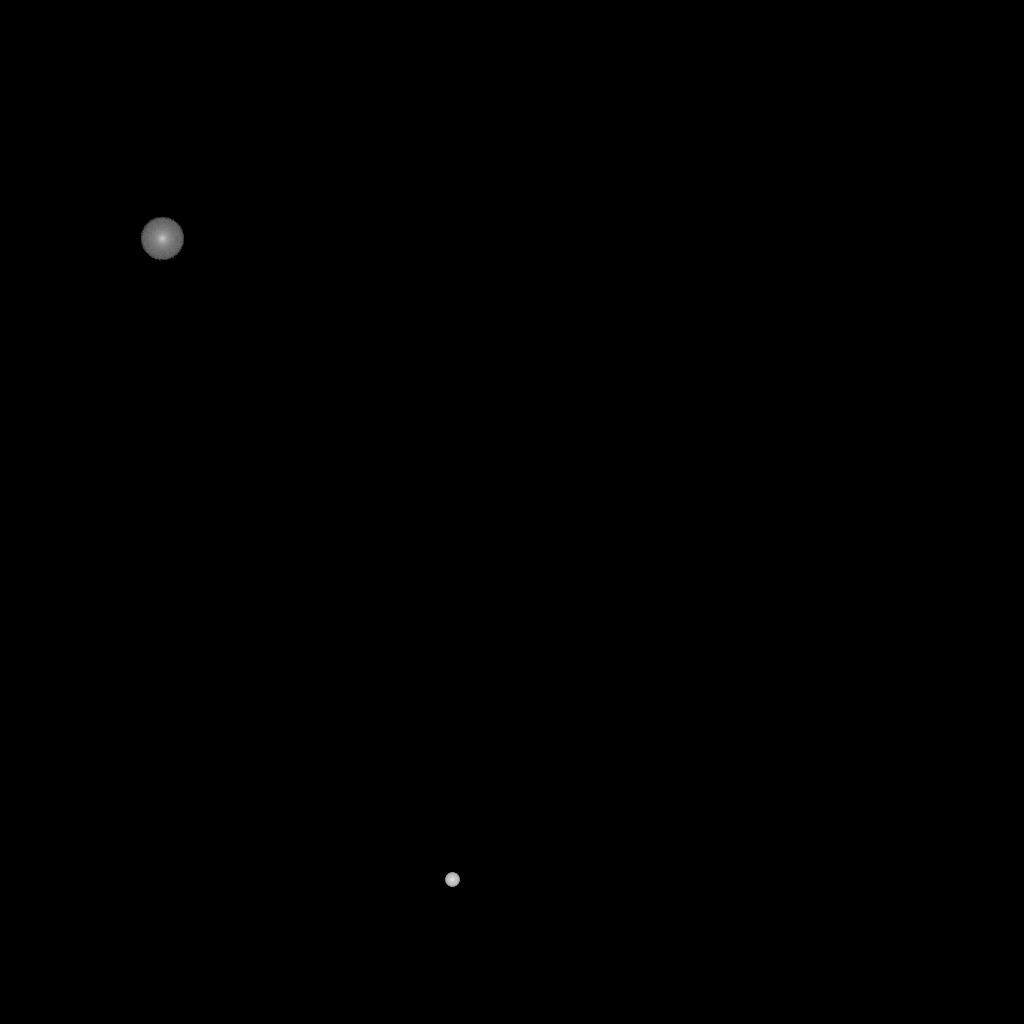depth:-30: (445, 873, 459, 887)
depth:10: (140, 217, 184, 261)
